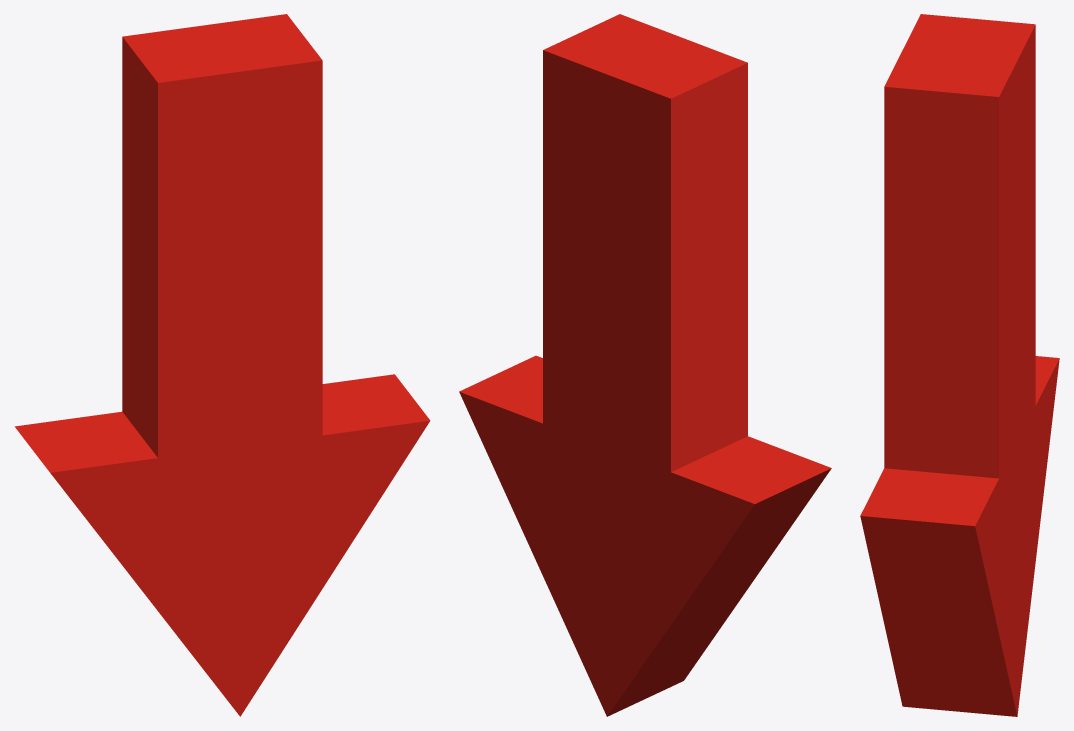
File: Billiard_Pointer.fbx
The picture shows the model from 3 angles, left to right: view 1: azimuth 30°, elevation 25°; view 2: azimuth 150°, elevation 25°; view 3: azimuth 270°, elevation 25°; orthographic projection. The views are drawn at different scales.
Visible parts, largest first — view 1: poiinter1; view 2: poiinter1; view 3: poiinter1.
Boxes of the visible parts, <box> form: poiinter1: <box>14,14,430,716</box>; poiinter1: <box>459,14,831,716</box>; poiinter1: <box>860,14,1059,716</box>.
Bounding box in the file's own units: 139 × 238 × 65.45.
